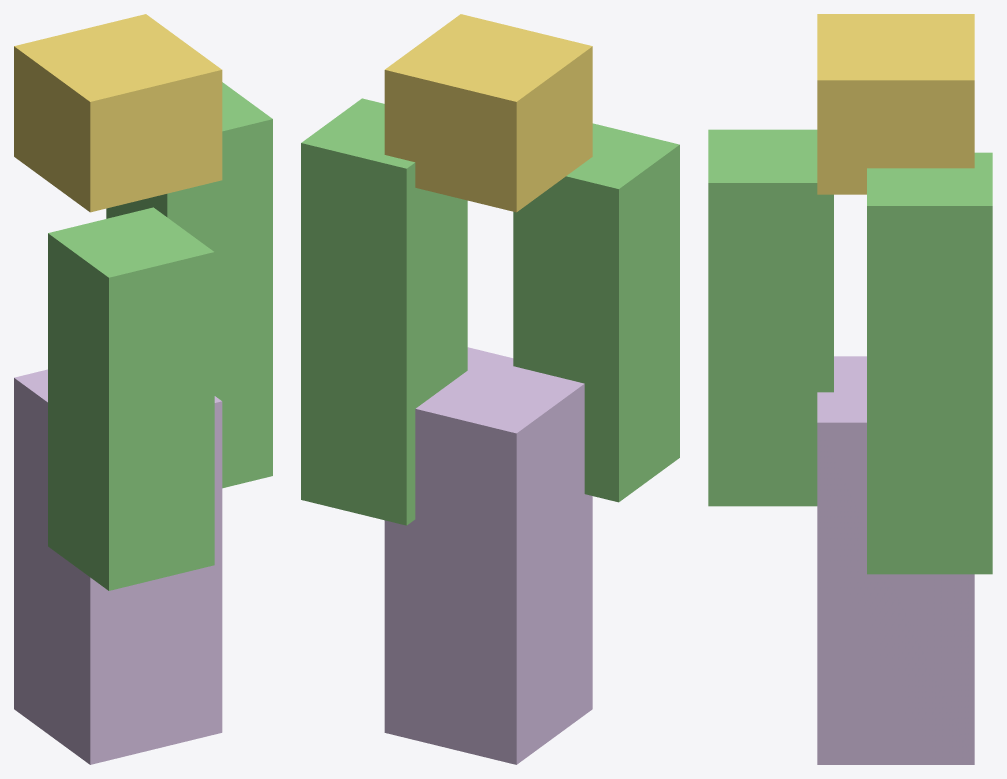
File: Item_Herb_AMF_Wagwort_Bundle1.glb
The picture shows the model from 3 angles, left to right: view 1: azimuth 30°, elevation 25°; view 2: azimuth 150°, elevation 25°; view 3: azimuth 270°, elevation 25°; orthographic projection. The views are drawn at different scales.
Parts seen in each view (by area): view 1: Item_Herb_AMF_Wagwort_Bundle1; view 2: Item_Herb_AMF_Wagwort_Bundle1; view 3: Item_Herb_AMF_Wagwort_Bundle1.
Boxes of the visible parts, box(x1,y1,x2,y2) form: Item_Herb_AMF_Wagwort_Bundle1: box(14, 14, 272, 764); Item_Herb_AMF_Wagwort_Bundle1: box(301, 14, 679, 764); Item_Herb_AMF_Wagwort_Bundle1: box(708, 14, 992, 764).
Size of the model in its own units: 0.0913 by 0.24 by 0.0904.
